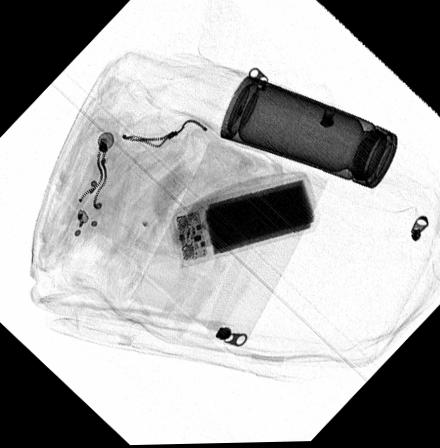Powerbank: (170, 174, 319, 267)
